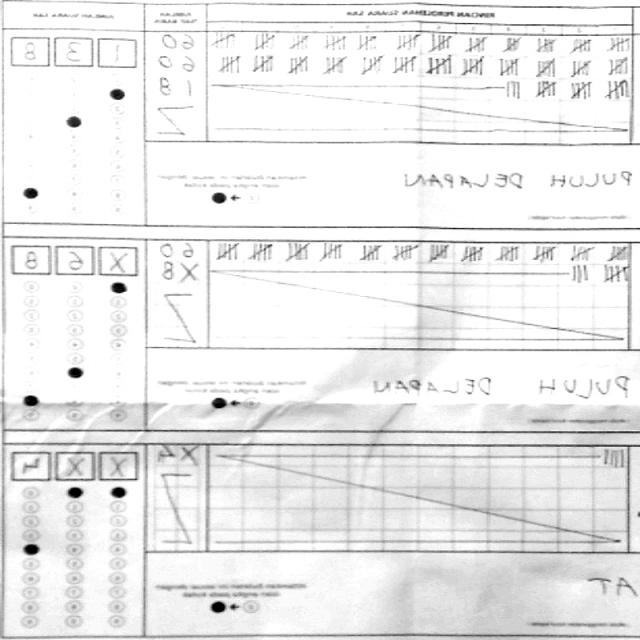Suara: (7, 446, 142, 484), (5, 34, 142, 71), (10, 241, 146, 278)
